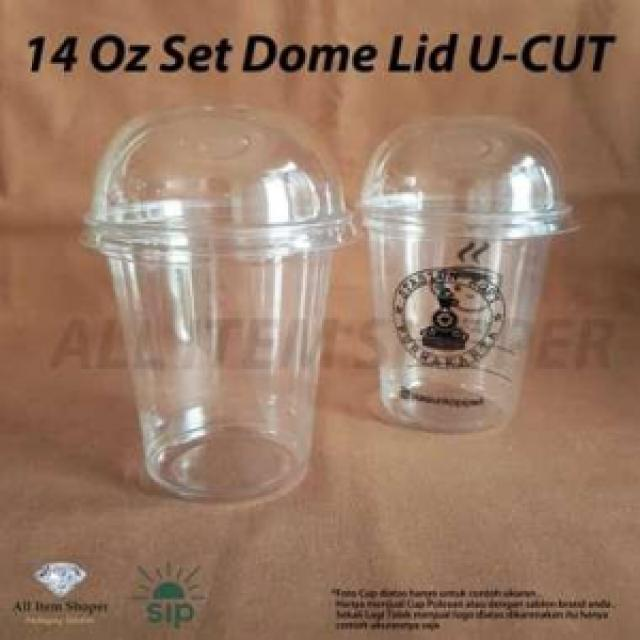plastic cup: (74, 102, 360, 506), (350, 109, 580, 439)
